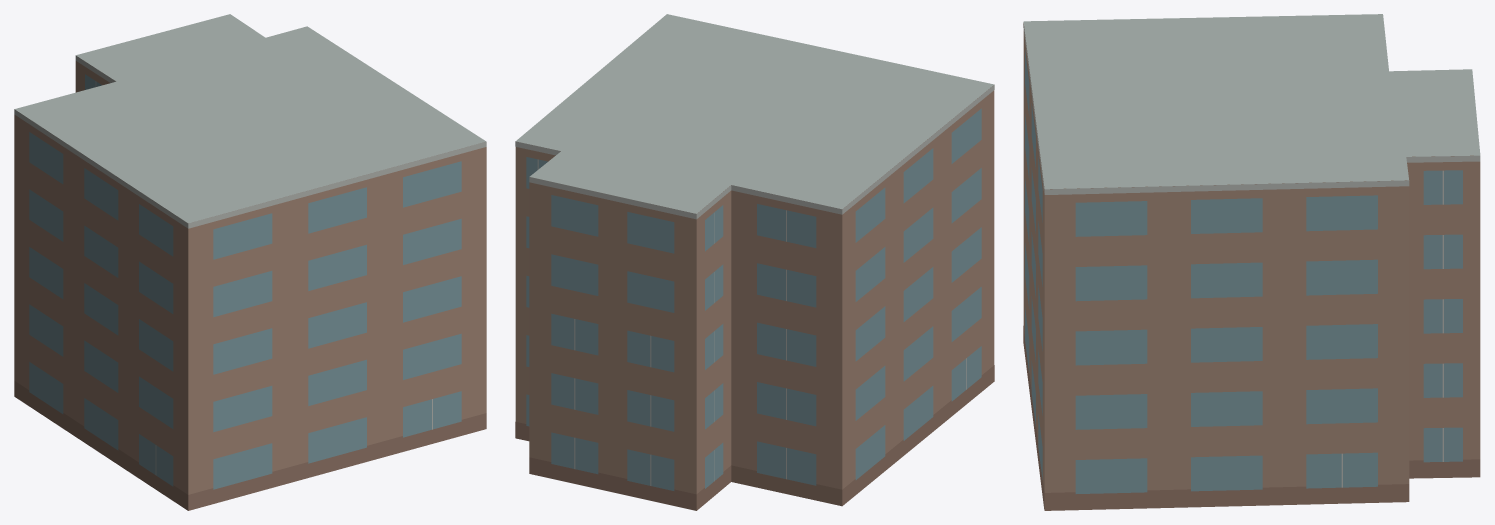
The model's file is survey-upis-32959786.glb.
The picture shows the model from 3 angles, left to right: view 1: azimuth 30°, elevation 25°; view 2: azimuth 150°, elevation 25°; view 3: azimuth 270°, elevation 25°; orthographic projection. The views are drawn at different scales.
Visible parts, largest first — view 1: survey-upis-32959786.tmp; view 2: survey-upis-32959786.tmp; view 3: survey-upis-32959786.tmp.
Part boxes in pixels (x1,y1,x2,y2): survey-upis-32959786.tmp: (14,14,486,510); survey-upis-32959786.tmp: (515,14,994,510); survey-upis-32959786.tmp: (1023,14,1480,510).
Size of the model in its own units: 15.55 by 13.3 by 17.14.
